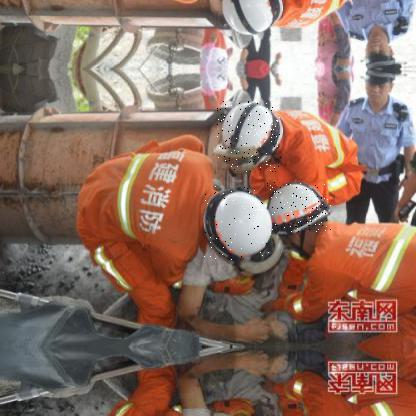safetyhelmet: (203, 186, 273, 264), (217, 102, 282, 174), (266, 183, 332, 235)
